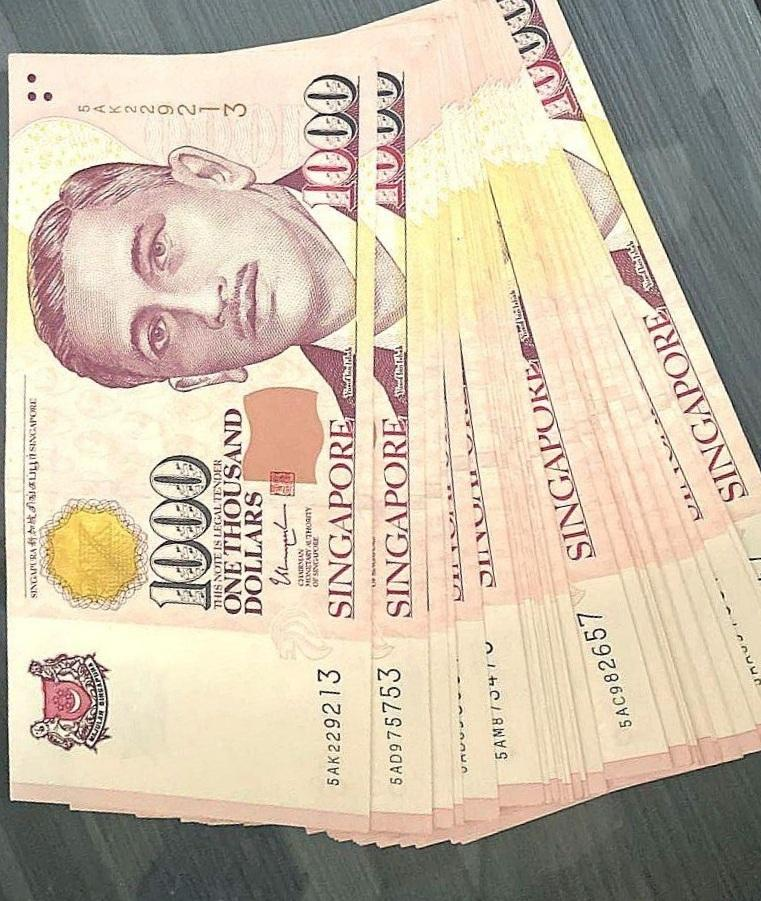1000SingaporeDollar: (13, 58, 368, 800)
